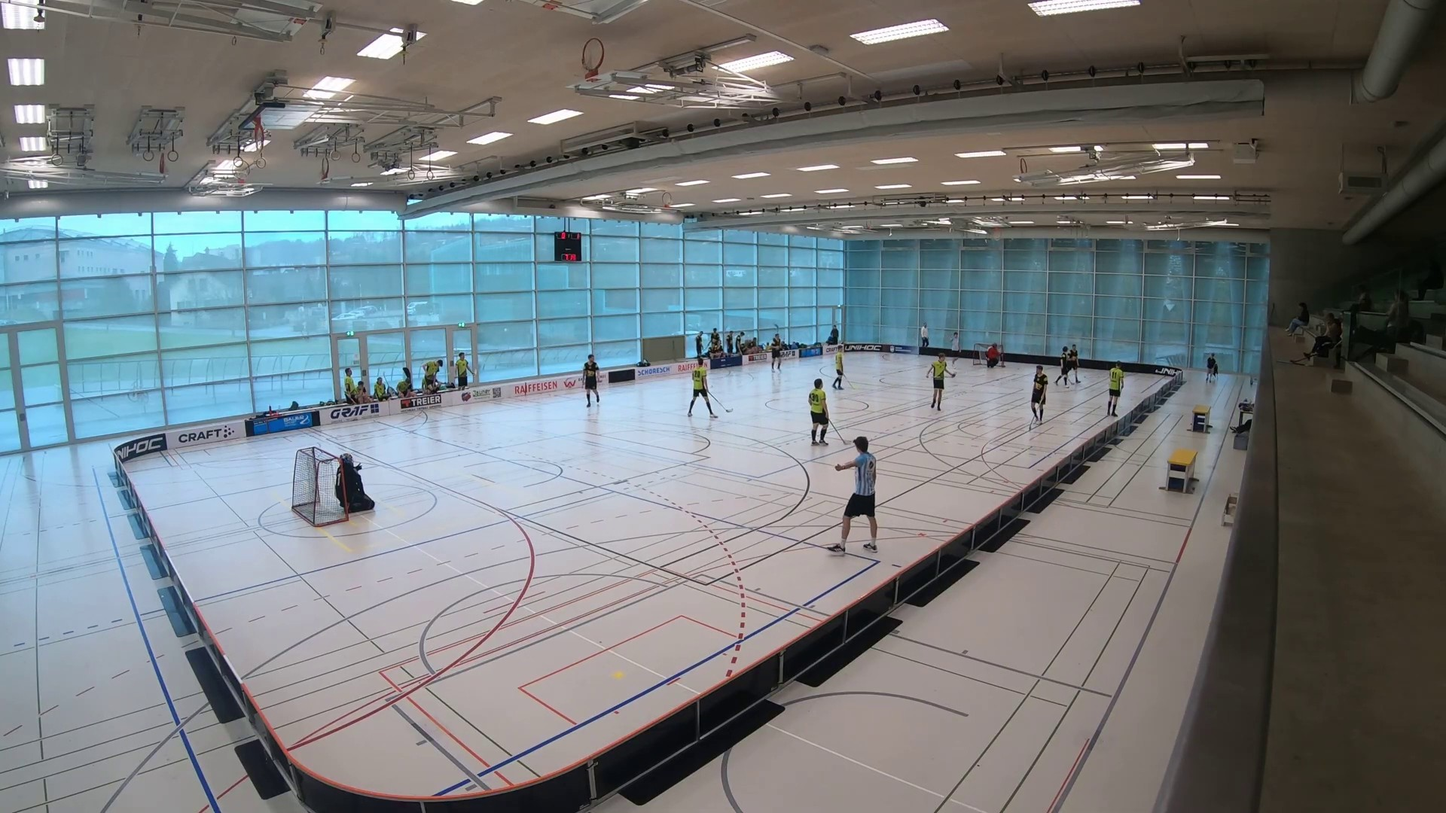Schiri: (819, 429, 899, 556), (948, 329, 962, 367)
goalkeeper: (323, 443, 381, 524), (985, 344, 1002, 367)
player: (688, 358, 715, 417), (929, 353, 955, 410), (808, 379, 828, 445), (1031, 365, 1048, 422), (1107, 361, 1124, 416), (582, 355, 599, 406), (1055, 346, 1069, 386), (833, 346, 844, 389), (770, 334, 782, 370), (1070, 344, 1079, 384)
